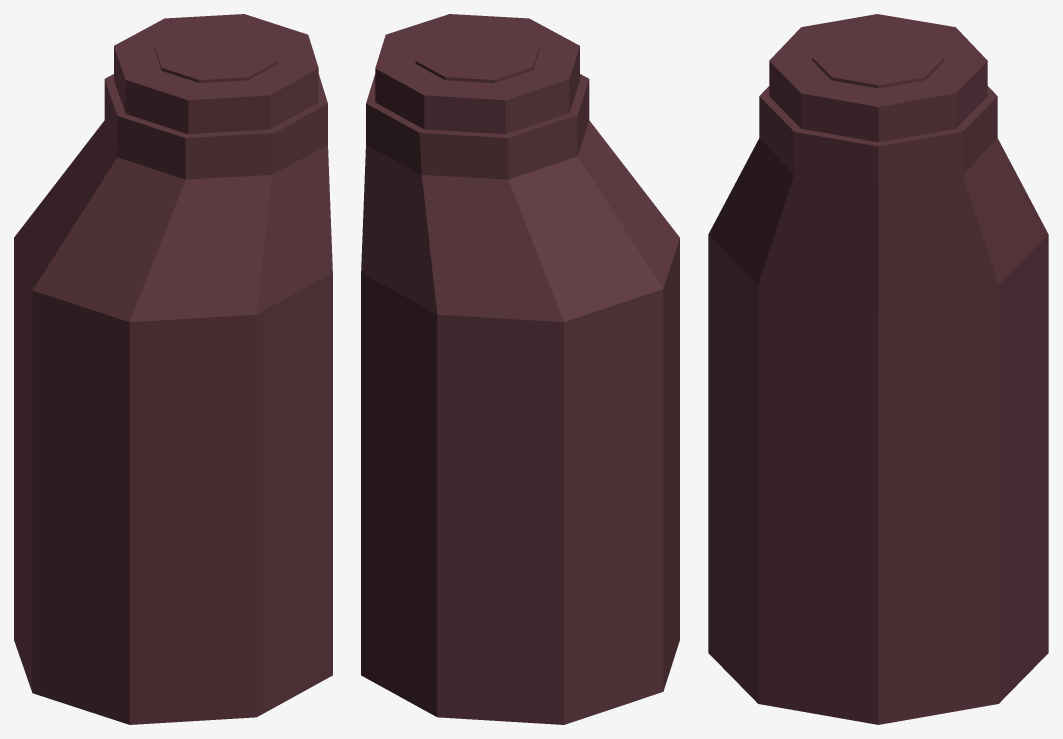
The model's file is sewer-shaft.fbx.
3 renders of one model, left to right at view 1: azimuth 30°, elevation 25°; view 2: azimuth 150°, elevation 25°; view 3: azimuth 270°, elevation 25°, orthographic. The views are drawn at different scales.
Visible parts, largest first — view 1: sewer-shaft-base, sewer-shaft-lid; view 2: sewer-shaft-base, sewer-shaft-lid; view 3: sewer-shaft-base, sewer-shaft-lid.
Part boxes in pixels (x1,y1,x2,y2): sewer-shaft-base: (14, 14, 332, 724); sewer-shaft-lid: (154, 28, 278, 82); sewer-shaft-base: (361, 14, 679, 724); sewer-shaft-lid: (415, 28, 539, 82); sewer-shaft-base: (708, 14, 1048, 724); sewer-shaft-lid: (812, 29, 944, 88).
Size of the model in its own units: 1.24 by 2.46 by 1.23.
